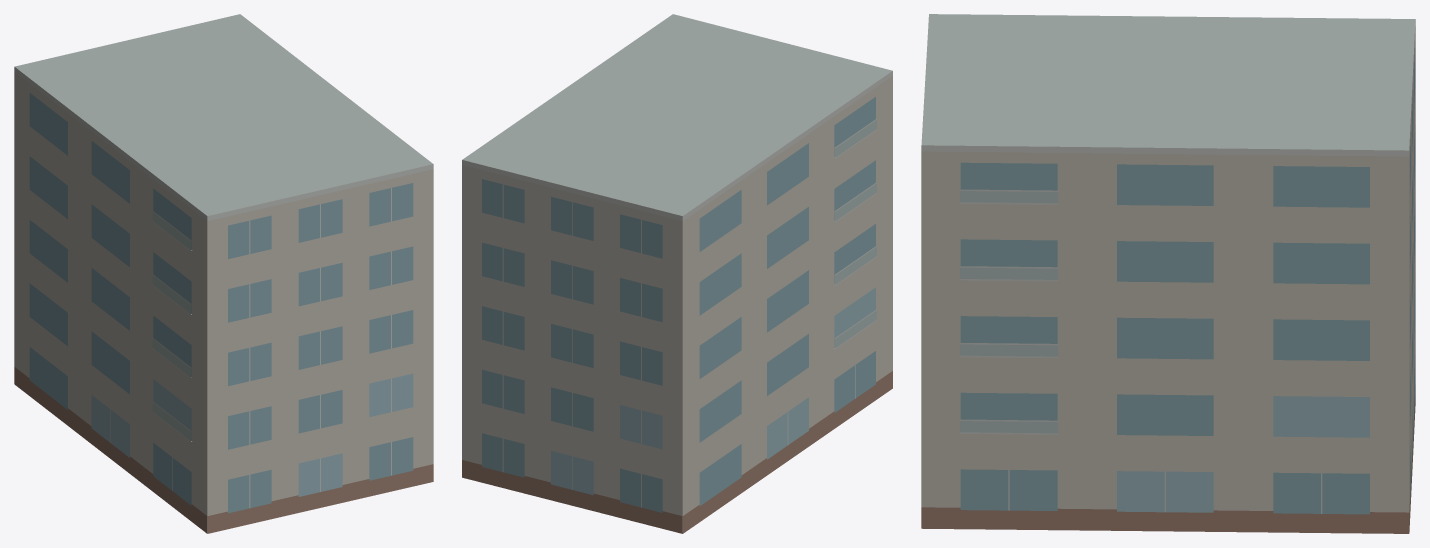
File: survey-upis-32959236.glb
3 renders of one model, left to right at view 1: azimuth 30°, elevation 25°; view 2: azimuth 150°, elevation 25°; view 3: azimuth 270°, elevation 25°, orthographic. The views are drawn at different scales.
Parts seen in each view (by area): view 1: survey-upis-32959236.tmp; view 2: survey-upis-32959236.tmp; view 3: survey-upis-32959236.tmp.
Part boxes in pixels (<box>): survey-upis-32959236.tmp: <box>14,14,433,533</box>; survey-upis-32959236.tmp: <box>462,14,892,533</box>; survey-upis-32959236.tmp: <box>921,14,1415,533</box>.
Bounding box in the file's own units: 11.88 × 15.55 × 18.17.
